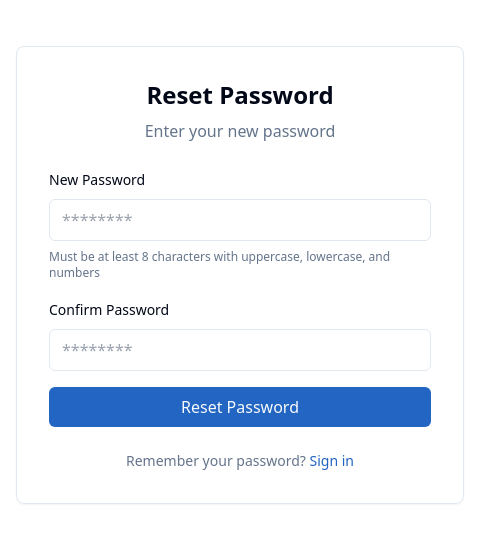
Scenario: ResetPassword Page › should validate passwords match before submitting
In the password field labelled "New Password": (240, 220) [49,199,431,241], type "Password123"
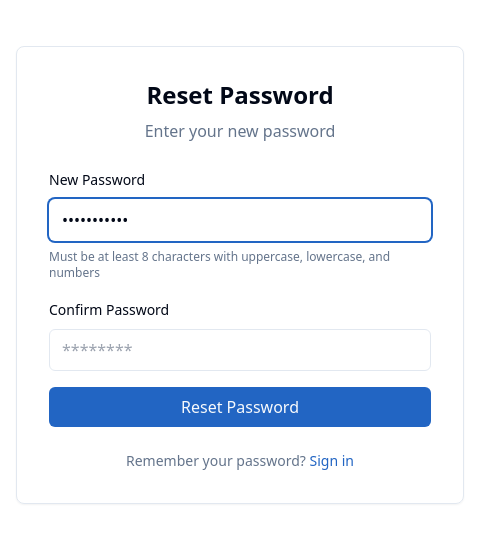
In the password field labelled "Confirm Password": (240, 350) [49,329,431,371], type "DifferentPassword123"
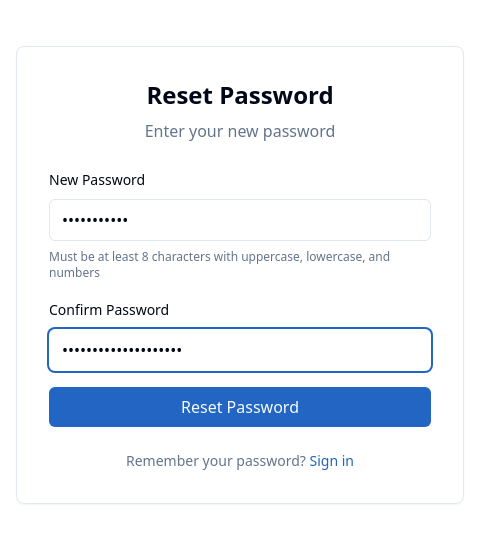
Click the button "Reset Password": (240, 407) [49,387,431,427]
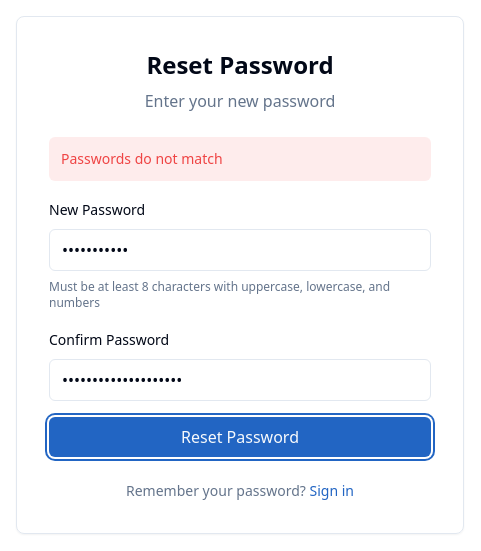
Expected: the text "Passwords do not match" is shown, [49,137,431,181]
